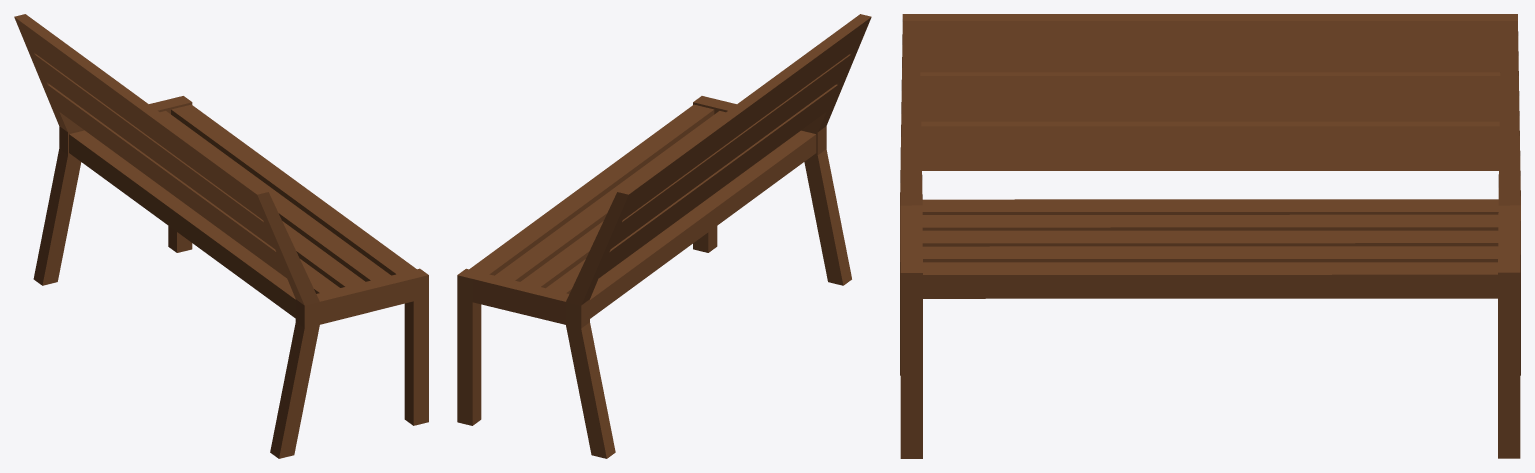
File: ParkBankje.fbx
3 views of the same model, side by side, from view 1: azimuth 30°, elevation 25°; view 2: azimuth 150°, elevation 25°; view 3: azimuth 270°, elevation 25° (orthographic). The views are drawn at different scales.
Visible parts, largest first — view 1: ParkBankje; view 2: ParkBankje; view 3: ParkBankje.
Boxes of the visible parts, x1,y1,x2,y2 form: ParkBankje: (14,14,428,458); ParkBankje: (457,14,871,458); ParkBankje: (900,14,1520,458).
Size of the model in its own units: 3.38 by 5.08 by 8.42.
